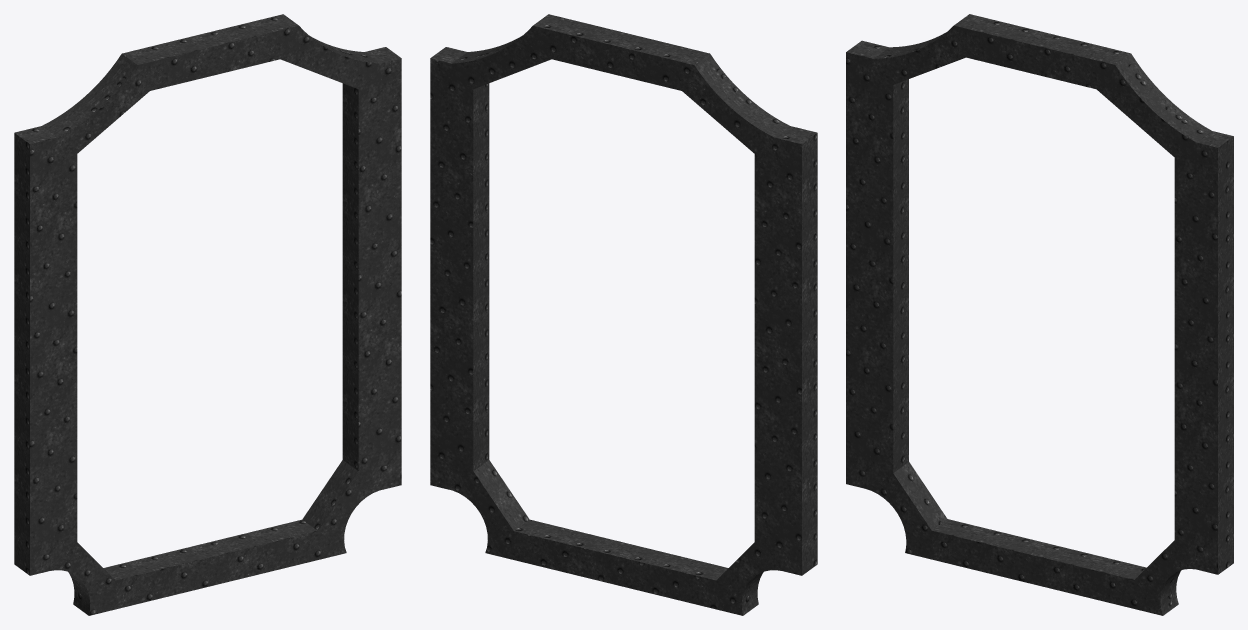
The model's file is puerta.fbx.
3 views of the same model, side by side, from view 1: azimuth 30°, elevation 25°; view 2: azimuth 150°, elevation 25°; view 3: azimuth 330°, elevation 25° (orthographic).
Parts seen in each view (by area): view 1: Model; view 2: Model; view 3: Model.
Part boxes in pixels (left/top/right/bottom): Model: left=14, top=14, right=401, bottom=615; Model: left=430, top=14, right=817, bottom=615; Model: left=846, top=14, right=1233, bottom=615.
Size of the model in its own units: 1.9 by 2.63 by 0.14.
